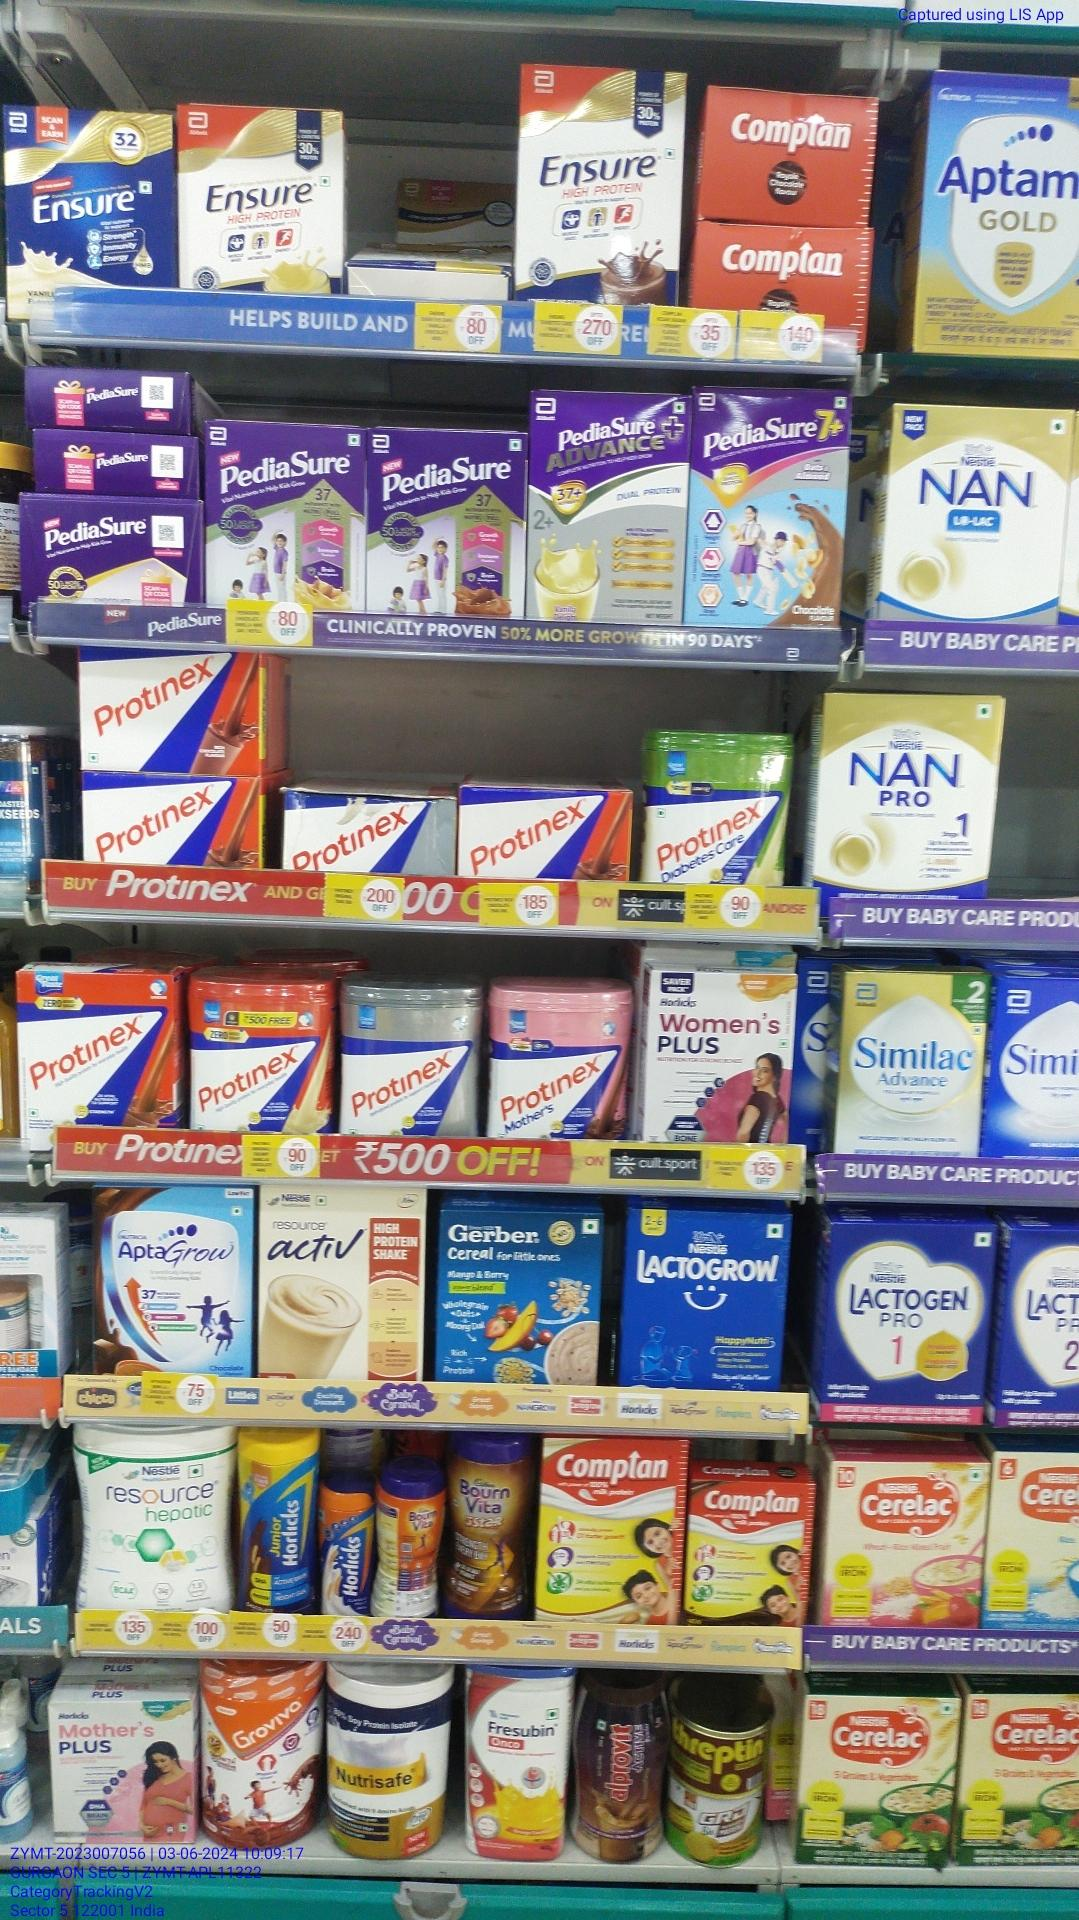BOURN_VITA_FIVE_STAR_MAGIC_500_G_JAR: (443, 1435, 537, 1614)
ENSURE_VANILLA_400_G_PACK: (0, 103, 173, 315)
PEDIASURE_CHOCOLATE_500_G_PACK: (371, 425, 524, 622)
PEDIASURE_VANILLA_500_G_PACK: (203, 421, 361, 612)
PROTINEX_ORIGINAL_400_G_JAR: (342, 984, 481, 1138)
PROTINEX_VANILLA_400_G_JAR: (193, 980, 332, 1138)
